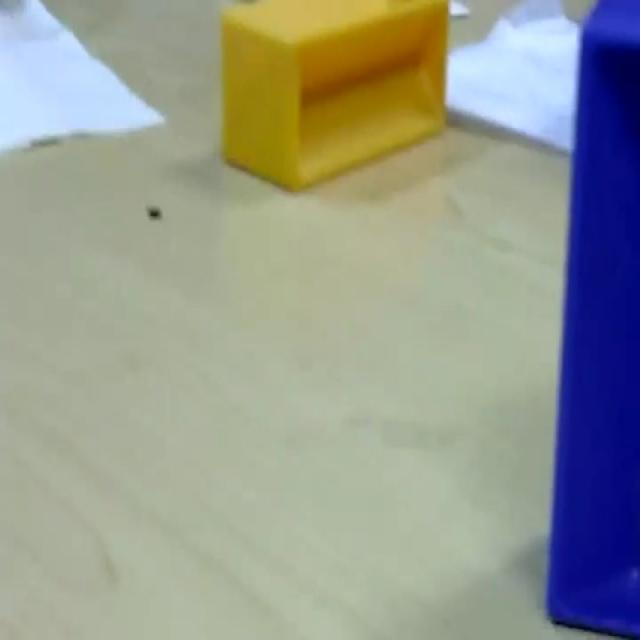blue_block: (544, 1, 638, 635)
yellow_block: (219, 0, 450, 191)
